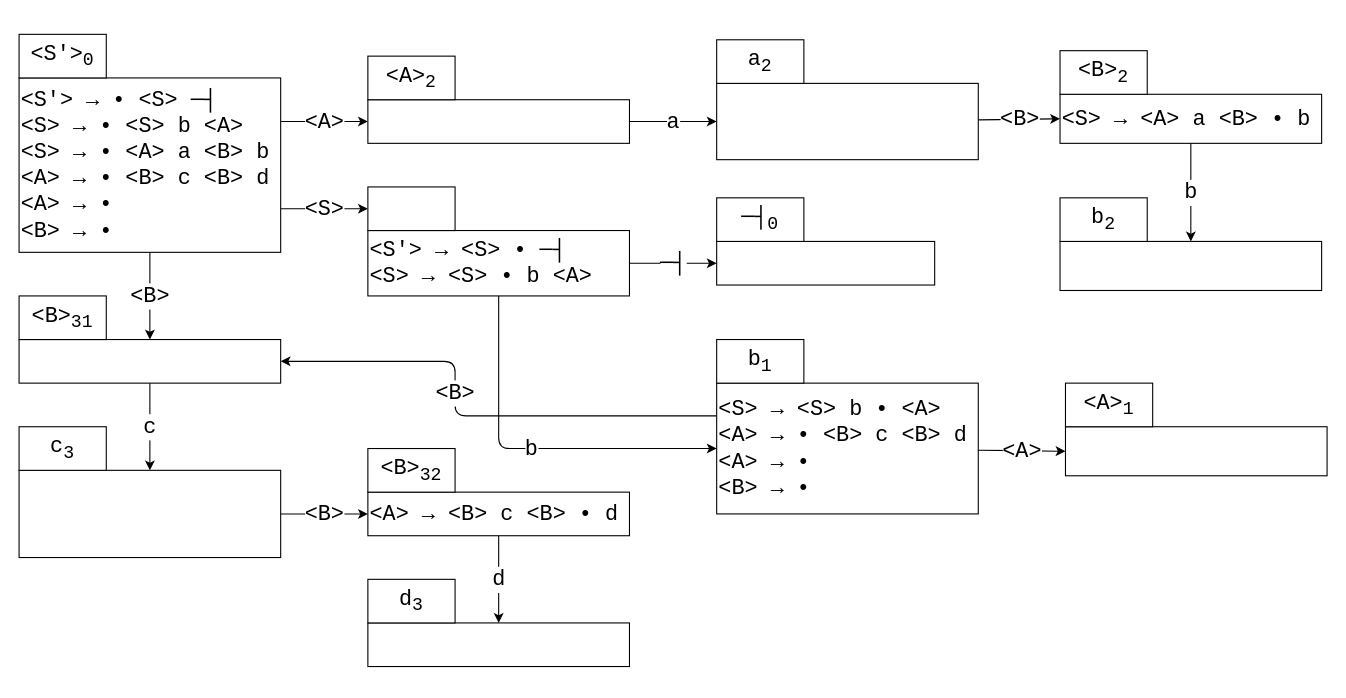
Some shapes in this 1346 by 698 pixel diagram are drawn without their labels. The shapes that lost their labels are listed below. From the top down, each one's centre as x and y in pixels, then its label:
At (x=498, y=121): "<S> → <A> • a <B> b".
At (x=847, y=121): "<S> → <A> a • <B> b <B> → •".
At (x=411, y=208): "<S> x".
At (x=825, y=262): "<S'> → <S> ─┤ •".
At (x=1190, y=265): "<S> → <A> a <B> b •".
At (x=149, y=360): "<A> → <B> • c <B> d".
At (x=1195, y=451): "<S> → <S> b <A> •".
At (x=149, y=513): "<A> → <B> c • <B> d <B> → •".
At (x=498, y=644): "<A> → <B> c <B> d •".
